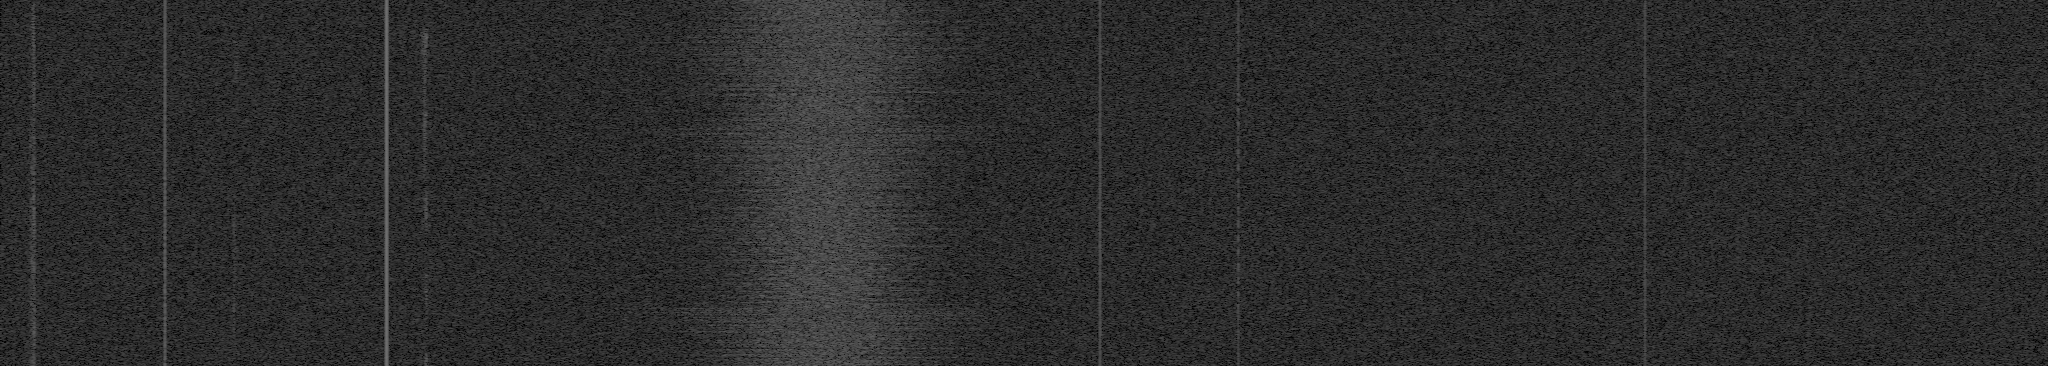wv_am: (162, 0, 168, 366), (1098, 0, 1102, 366), (1236, 105, 1241, 366), (1236, 0, 1241, 105)
wv_cw: (384, 0, 391, 366), (1643, 0, 1647, 366)
wv_lsb: (27, 3, 37, 366), (419, 24, 428, 238), (421, 271, 428, 342), (419, 353, 428, 366), (423, 254, 428, 271), (422, 3, 428, 10), (423, 239, 428, 248), (424, 250, 428, 254), (424, 13, 428, 17), (424, 348, 428, 352), (424, 342, 428, 346)
wv_usb: (231, 209, 240, 366), (232, 41, 242, 88), (232, 135, 236, 145), (232, 3, 236, 13), (232, 14, 235, 26)
wv_wbfm: (616, 0, 1036, 366)
